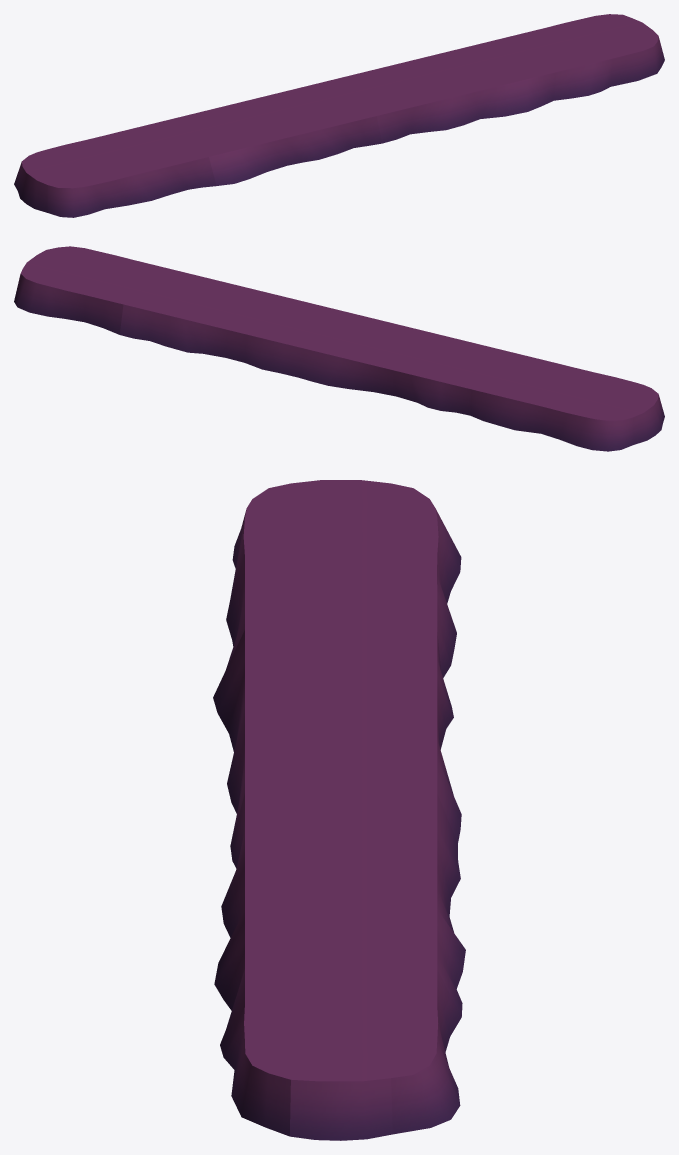
Rendered from table_long.fbx.
3 renders of one model, top to bottom at view 1: azimuth 30°, elevation 25°; view 2: azimuth 150°, elevation 25°; view 3: azimuth 270°, elevation 25°, orthographic. The views are drawn at different scales.
Visible parts, largest first — view 1: transform3; view 2: transform3; view 3: transform3.
Part boxes in pixels (bbox=[...]): transform3: bbox=[14, 14, 664, 217]; transform3: bbox=[14, 246, 664, 451]; transform3: bbox=[213, 480, 465, 1140].
Size of the model in its own units: 12.22 by 0.4733 by 2.12.
